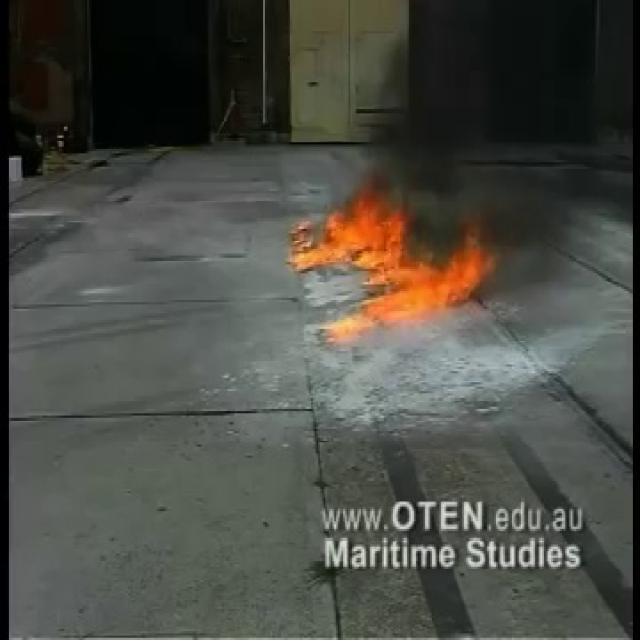Fire: (290, 175, 489, 342)
Smoke: (364, 0, 634, 280)
